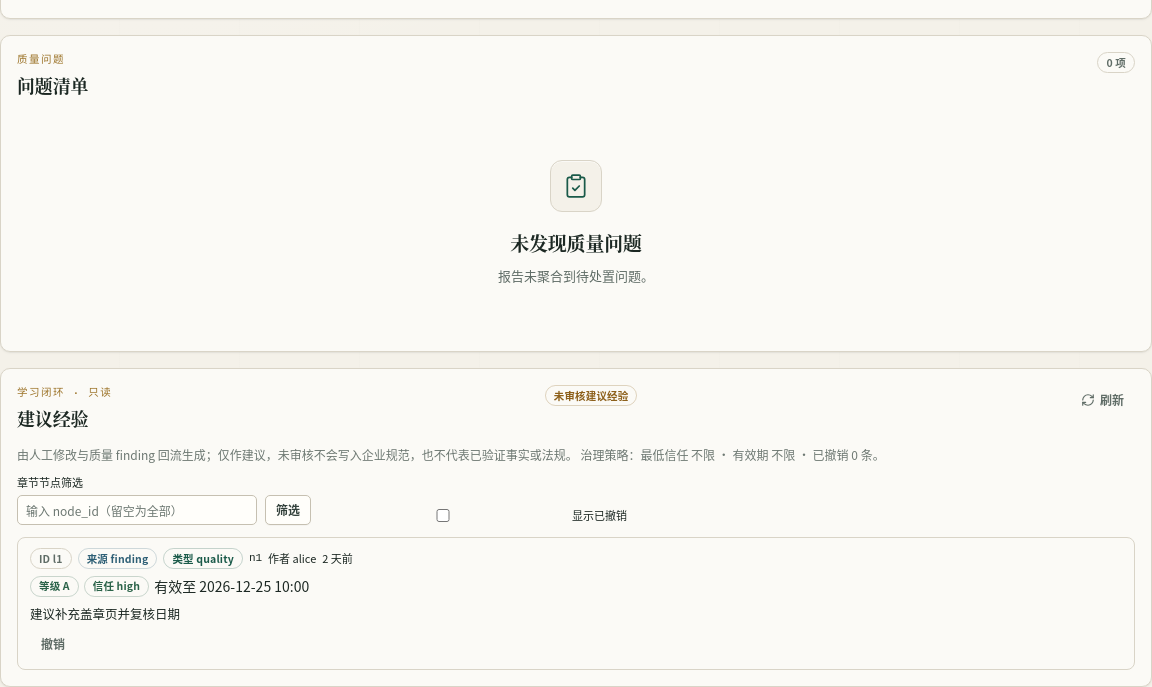
it: QualityTab 建议经验面板 › 已撤销开关切换 include_revoked 查询并展示撤销徽标
(page scrolled)
Check: the text "建议补充盖章页并复核日期" is shown, box [30, 604, 180, 622]
Click the checkbox named "显示已撤销经验" at x=443, y=516, box [323, 509, 563, 522]
(page scrolled)
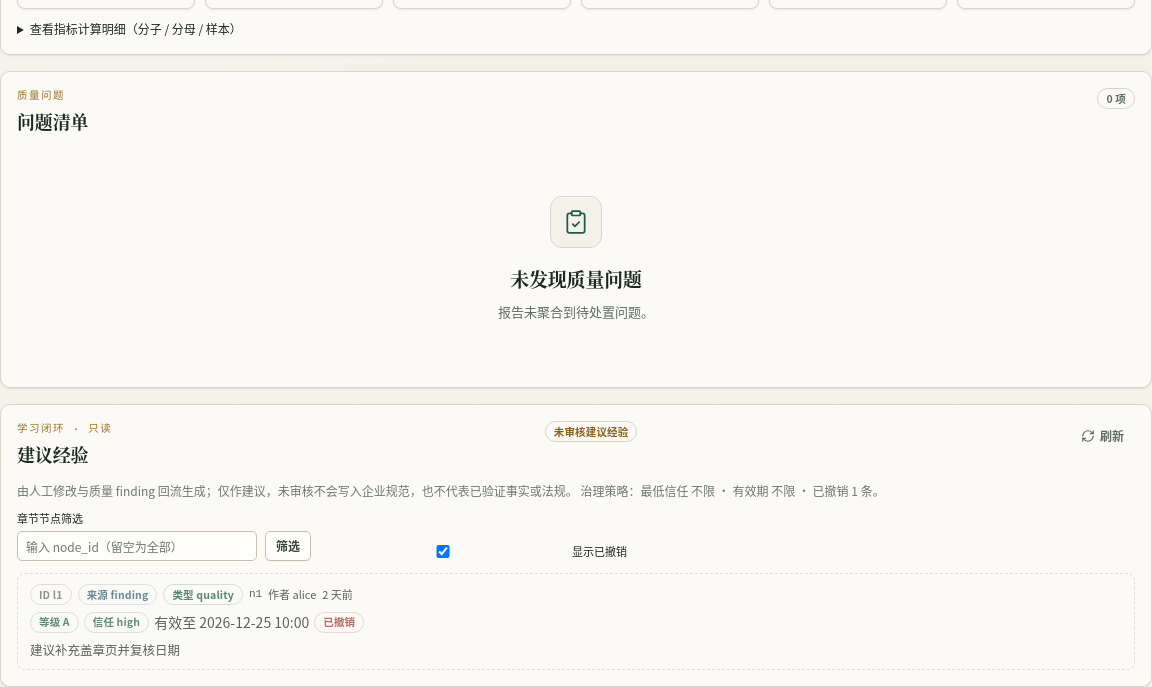
Check: the text "已撤销" is shown, box [314, 612, 364, 633]
